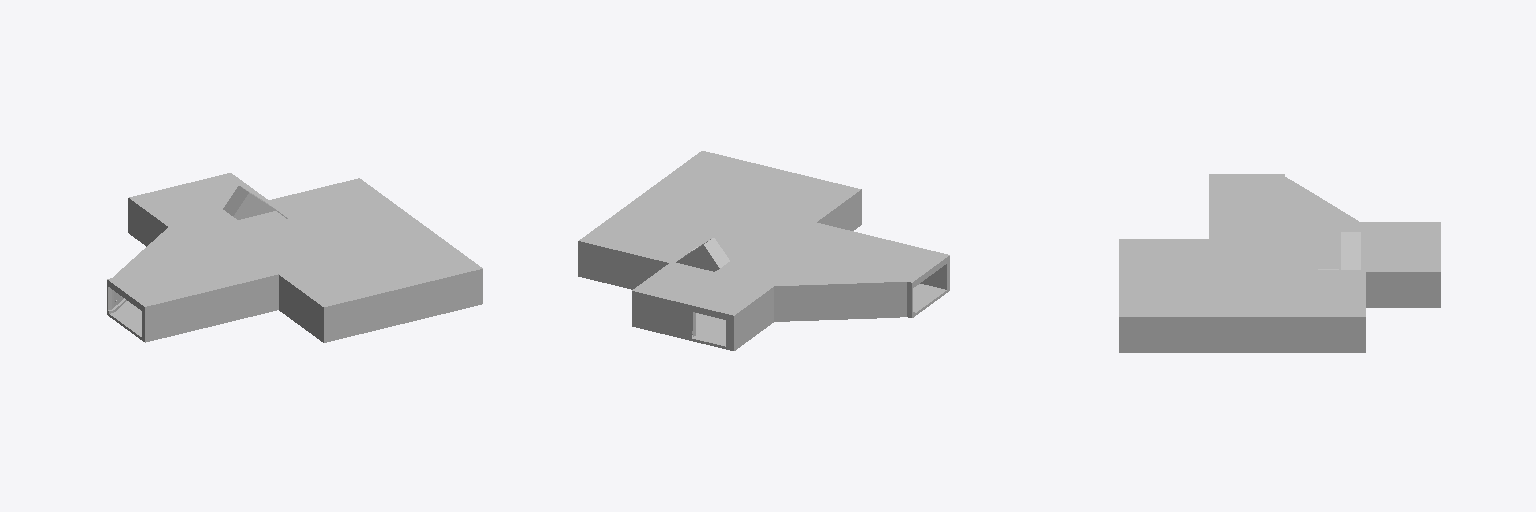
File: 3west.obj
3 renders of one model, left to right at view 1: azimuth 30°, elevation 25°; view 2: azimuth 150°, elevation 25°; view 3: azimuth 270°, elevation 25°, orthographic.
Parts seen in each view (by area): view 1: ThreeWest polySurface14 polySurface7 polySurface5 polySurface1 p, ThreeWest Escalator pCube27, ThreeWest floor; view 2: ThreeWest polySurface14 polySurface7 polySurface5 polySurface1 p, ThreeWest floor, ThreeWest Escalator pCube27; view 3: ThreeWest polySurface14 polySurface7 polySurface5 polySurface1 p, ThreeWest Escalator pCube27.
Part boxes in pixels (x1,y1,x2,y2): ThreeWest polySurface14 polySurface7 polySurface5 polySurface1 p: (107, 173, 482, 342); ThreeWest Escalator pCube27: (223, 186, 276, 219); ThreeWest floor: (110, 301, 141, 336); ThreeWest polySurface14 polySurface7 polySurface5 polySurface1 p: (578, 151, 949, 350); ThreeWest floor: (696, 284, 945, 346); ThreeWest Escalator pCube27: (676, 238, 729, 271); ThreeWest polySurface14 polySurface7 polySurface5 polySurface1 p: (1119, 174, 1440, 352); ThreeWest Escalator pCube27: (1341, 232, 1360, 269).
Size of the model in its own units: 3358 by 773 by 3202.